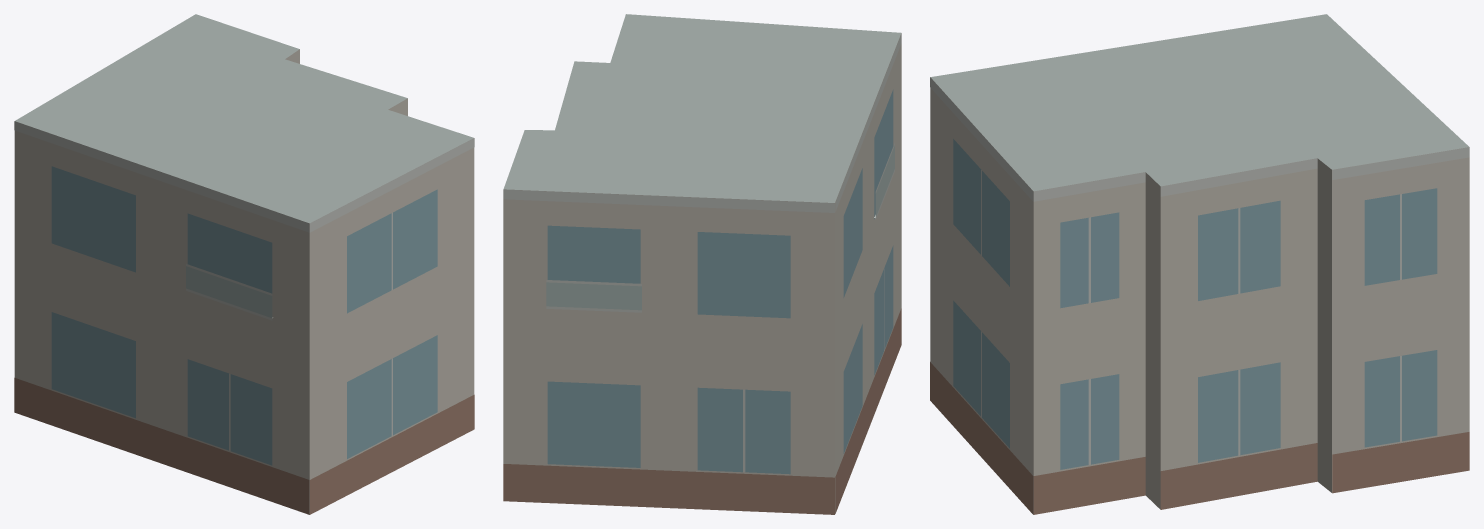
Rendered from survey-upis-32494295.glb.
3 views of the same model, side by side, from view 1: azimuth 30°, elevation 25°; view 2: azimuth 150°, elevation 25°; view 3: azimuth 270°, elevation 25° (orthographic). The views are drawn at different scales.
Visible parts, largest first — view 1: survey-upis-32494295.tmp; view 2: survey-upis-32494295.tmp; view 3: survey-upis-32494295.tmp.
Part boxes in pixels (left/top/right/bottom): survey-upis-32494295.tmp: left=14, top=14, right=474, bottom=514; survey-upis-32494295.tmp: left=503, top=14, right=901, bottom=514; survey-upis-32494295.tmp: left=930, top=14, right=1469, bottom=514.
Bounding box in the file's own units: 8.95 × 7.6 × 11.5.
